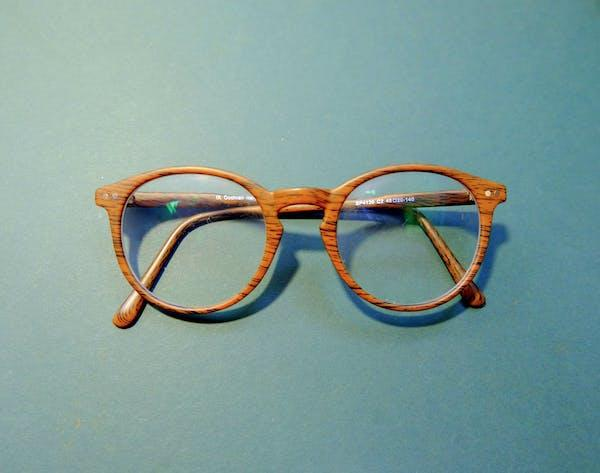eyeglasses: (89, 155, 513, 340)
